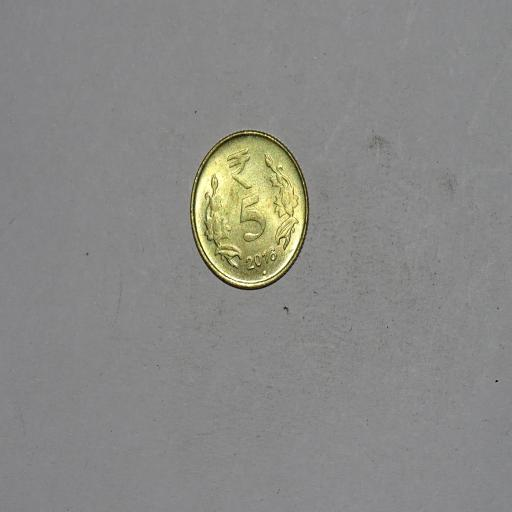rupee5: (187, 128, 312, 292)
